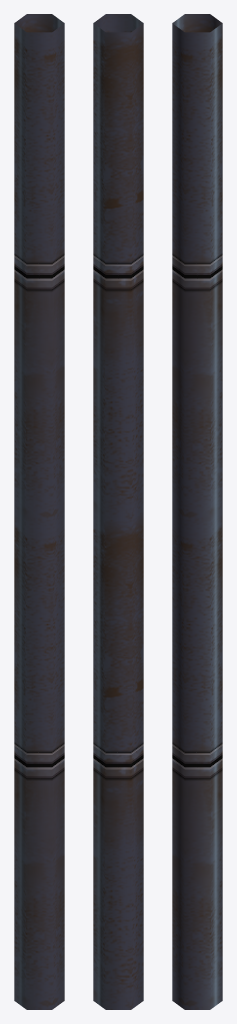
File: rainwaterPipe_middle_6m.fbx
3 renders of one model, left to right at view 1: azimuth 30°, elevation 25°; view 2: azimuth 210°, elevation 25°; view 3: azimuth 330°, elevation 25°, orthographic.
Visible parts, largest first — view 1: rainwaterPipe_middle_6m; view 2: rainwaterPipe_middle_6m; view 3: rainwaterPipe_middle_6m.
Boxes of the visible parts, bbox=[...] form: rainwaterPipe_middle_6m: bbox=[14, 14, 64, 1009]; rainwaterPipe_middle_6m: bbox=[93, 14, 143, 1009]; rainwaterPipe_middle_6m: bbox=[172, 14, 222, 1009].
Bounding box in the file's own units: 24.28 × 600 × 28.04.
